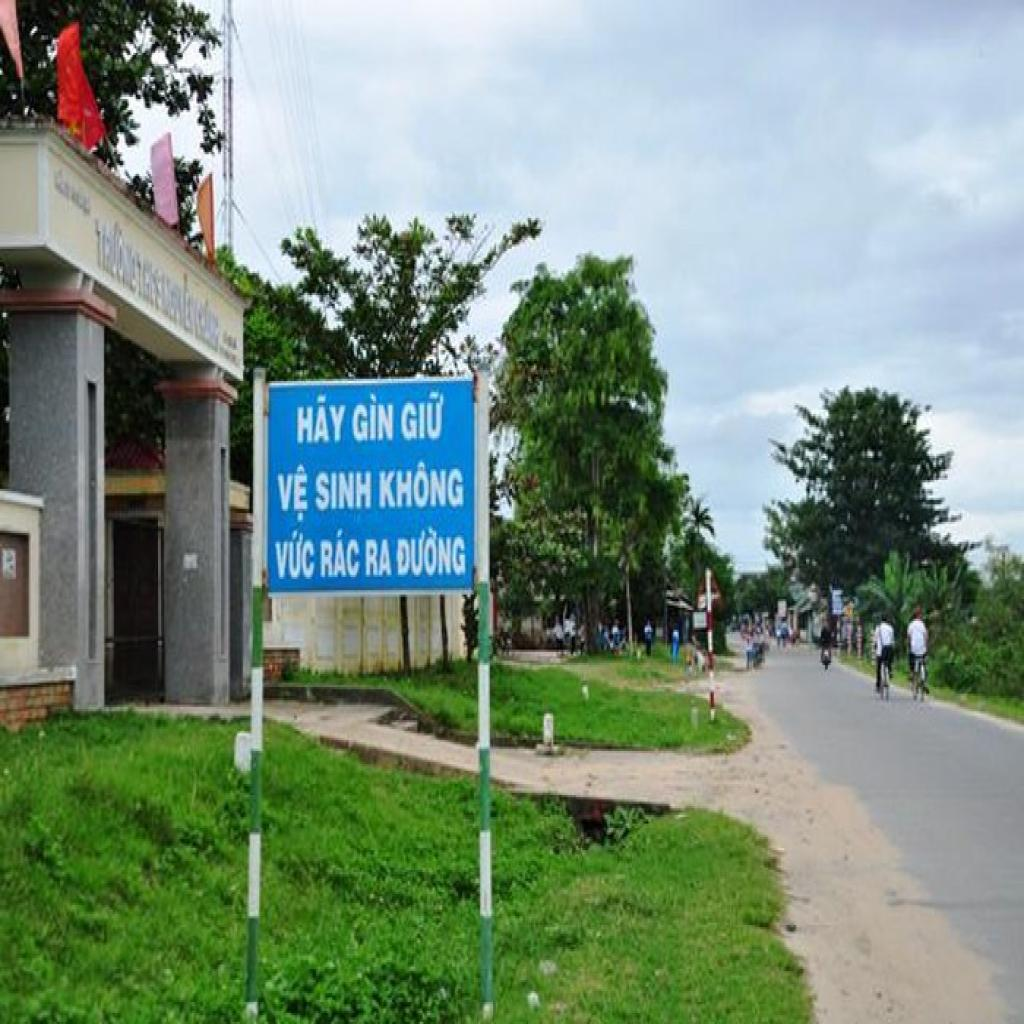text: (378, 460, 468, 513), (397, 528, 468, 582), (94, 216, 138, 295), (294, 394, 351, 447), (314, 469, 374, 513), (400, 390, 446, 445), (351, 392, 397, 445), (319, 528, 361, 582), (272, 531, 316, 581), (276, 465, 312, 526), (136, 242, 165, 317), (364, 537, 395, 579)
